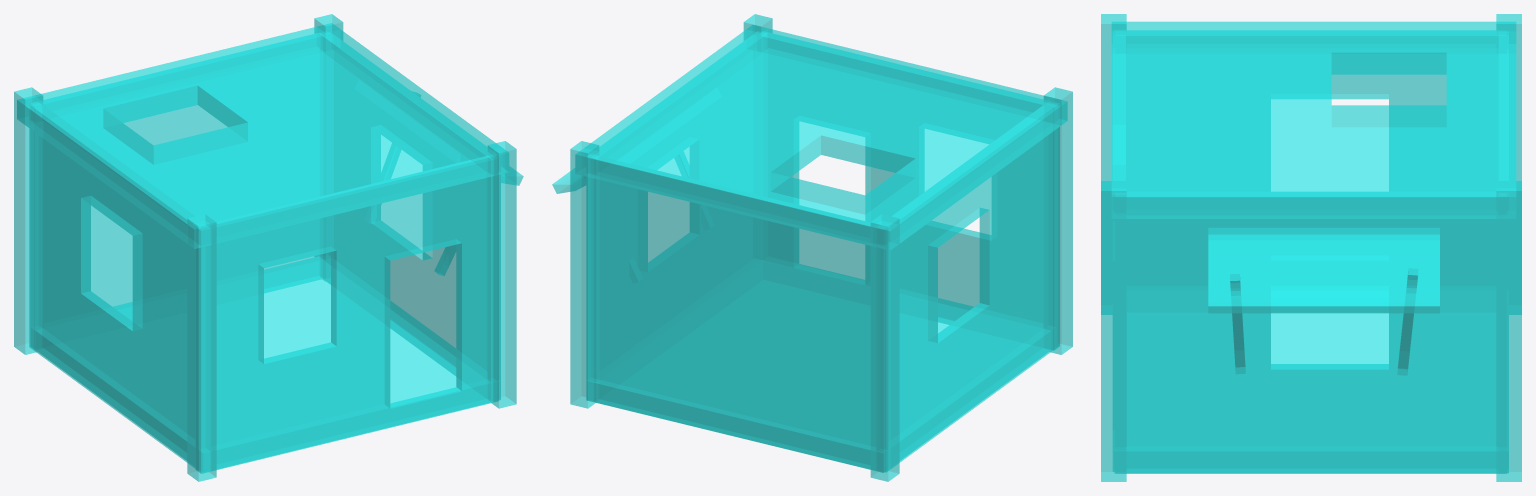
The model's file is SM_Bld_Shack_04_Collision.fbx.
3 views of the same model, side by side, from view 1: azimuth 30°, elevation 25°; view 2: azimuth 150°, elevation 25°; view 3: azimuth 270°, elevation 25° (orthographic). The views are drawn at different scales.
Visible parts, largest first — view 1: SM_Bld_Shack_04_Collision; view 2: SM_Bld_Shack_04_Collision; view 3: SM_Bld_Shack_04_Collision.
Boxes of the visible parts, bbox=[...] form: SM_Bld_Shack_04_Collision: bbox=[14, 14, 523, 481]; SM_Bld_Shack_04_Collision: bbox=[552, 14, 1072, 481]; SM_Bld_Shack_04_Collision: bbox=[1101, 14, 1521, 481].
Bounding box in the file's own units: 518 × 339 × 445.
